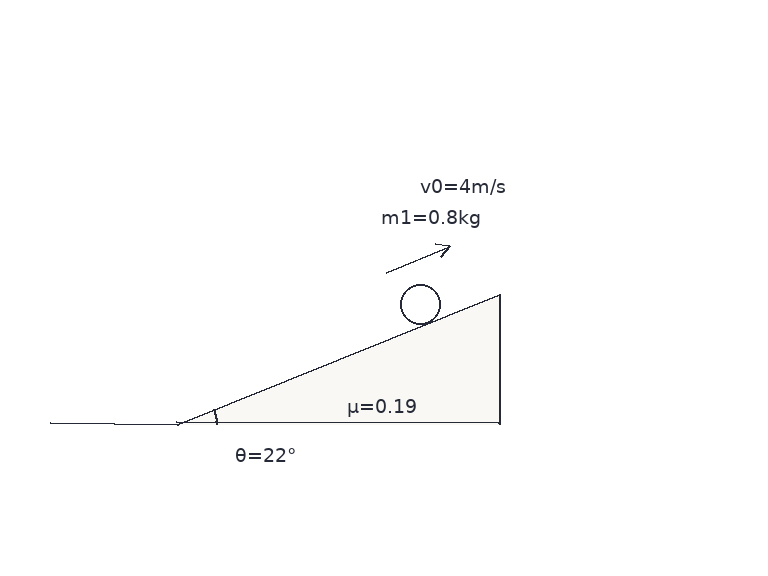ball: (398, 282, 442, 326)
ramp: (175, 292, 501, 426)
